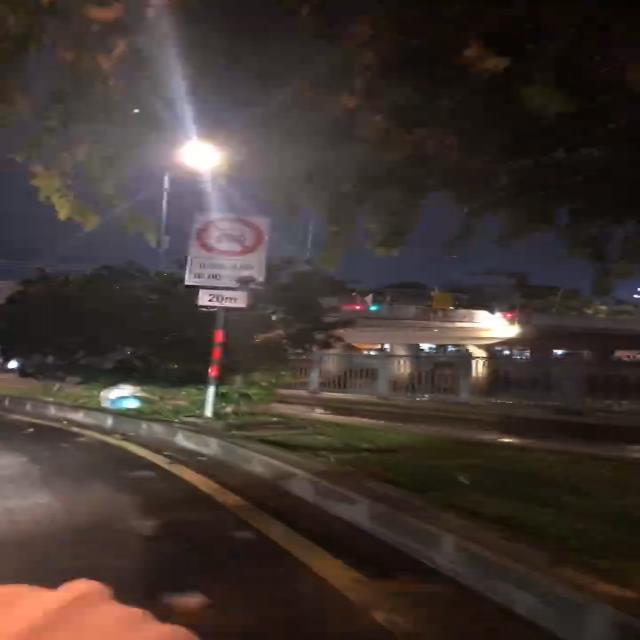Bien bao cam xe oto: (198, 214, 267, 258)
